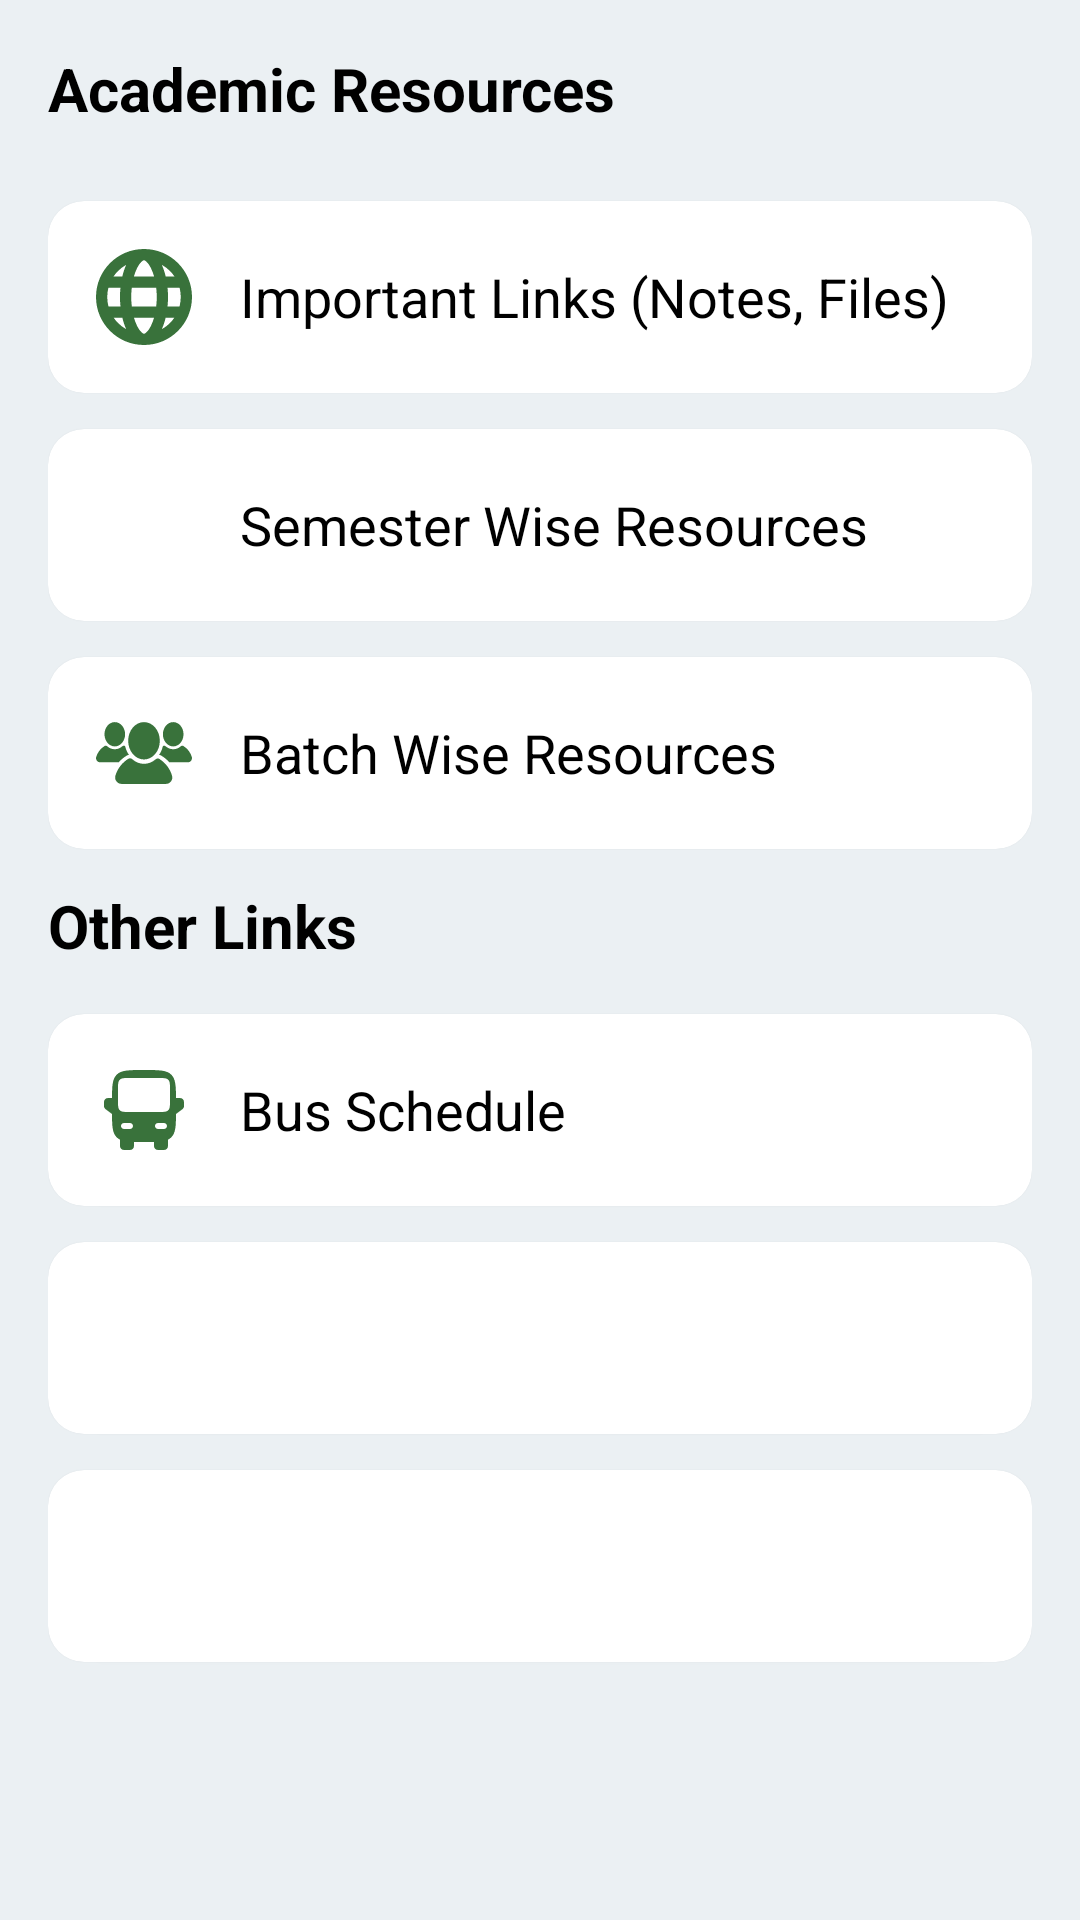

Icons on this 1080px×1920px Android screen, each with its box as (x1, y1, x2, y2):
Group Icon: (96, 722, 192, 784)
